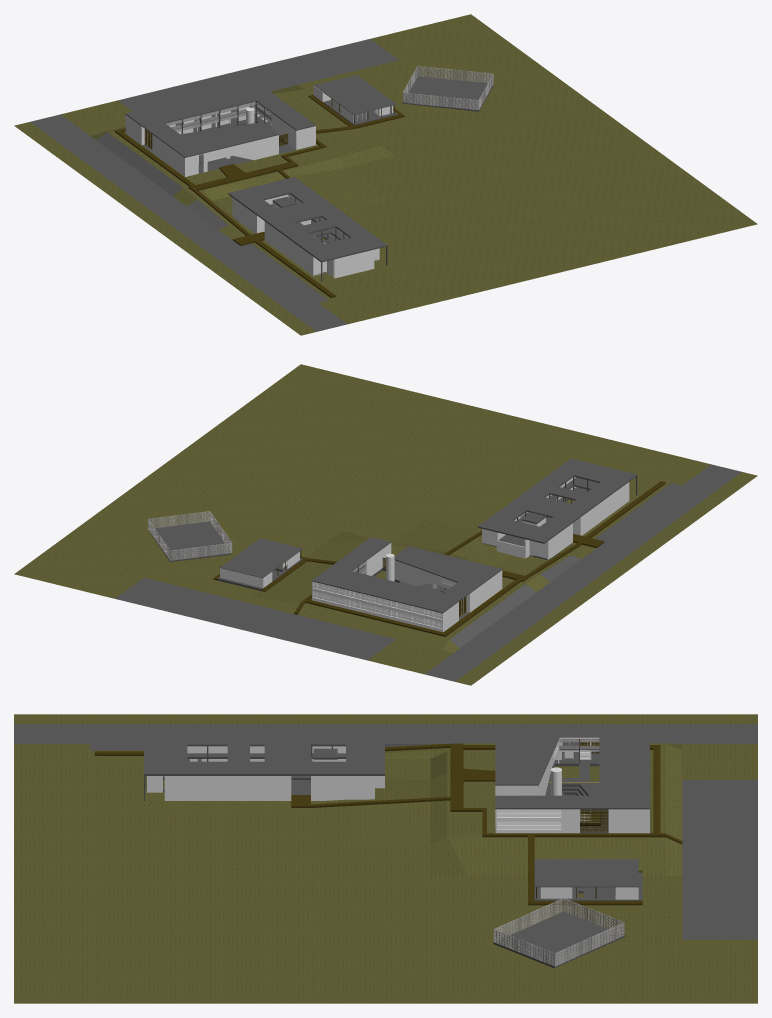
File: CompletoSOLIDO.glb
3 views of the same model, one above another, from view 1: azimuth 30°, elevation 25°; view 2: azimuth 150°, elevation 25°; view 3: azimuth 270°, elevation 25° (orthographic). The views are drawn at different scales.
Parts seen in each view (by area): view 1: Chao, telhadoUAC, Telhado, calcada, UAC_1andar, ParedesTerreo, Grade, telhadoRU, UAC_piso_terreo, Barras_ferro, ParedesRU; view 2: Chao, telhadoUAC, Telhado, calcada, UAC_1andar, ParedesTerreo, Janelas, Grade, telhadoRU, ParedesRU, Piso_2andarUED; view 3: Chao, telhadoUAC, Telhado, calcada, ParedesTerreo, Grade, UAC_1andar, telhadoRU, UAC_piso_terreo, Janelas, pisoRU, Quadriculado (+1 smaller).
Part boxes in pixels (x1=…): Chao: x1=14, y1=14, x2=757, y2=335; telhadoUAC: x1=125, y1=81, x2=315, y2=157; Telhado: x1=228, y1=177, x2=387, y2=262; calcada: x1=114, y1=76, x2=493, y2=297; UAC_1andar: x1=125, y1=104, x2=315, y2=176; ParedesTerreo: x1=232, y1=194, x2=379, y2=278; Grade: x1=403, y1=66, x2=493, y2=110; telhadoRU: x1=314, y1=75, x2=396, y2=114; UAC_piso_terreo: x1=125, y1=111, x2=295, y2=173; Barras_ferro: x1=166, y1=101, x2=271, y2=131; ParedesRU: x1=313, y1=86, x2=394, y2=123; Chao: x1=14, y1=364, x2=757, y2=685; telhadoUAC: x1=312, y1=537, x2=502, y2=613; Telhado: x1=478, y1=458, x2=637, y2=543; calcada: x1=148, y1=481, x2=665, y2=636; UAC_1andar: x1=312, y1=543, x2=502, y2=632; ParedesTerreo: x1=482, y1=477, x2=629, y2=560; Janelas: x1=313, y1=578, x2=455, y2=628; Grade: x1=147, y1=511, x2=232, y2=560; telhadoRU: x1=220, y1=538, x2=302, y2=578; ParedesRU: x1=220, y1=551, x2=301, y2=587; Piso_2andarUED: x1=498, y1=477, x2=598, y2=546; Chao: x1=14, y1=714, x2=757, y2=1003; telhadoUAC: x1=495, y1=725, x2=649, y2=809; Telhado: x1=144, y1=732, x2=384, y2=775; calcada: x1=94, y1=743, x2=682, y2=968; ParedesTerreo: x1=147, y1=746, x2=384, y2=800; Grade: x1=493, y1=898, x2=624, y2=966; UAC_1andar: x1=495, y1=737, x2=649, y2=833; telhadoRU: x1=534, y1=859, x2=638, y2=887; UAC_piso_terreo: x1=495, y1=751, x2=650, y2=833; Janelas: x1=497, y1=744, x2=561, y2=829; pisoRU: x1=534, y1=872, x2=642, y2=900; Quadriculado: x1=580, y1=742, x2=608, y2=832.
Size of what is drawn, in the model's own units: 247 by 18.25 by 269.
12 materials, 5 textured.
